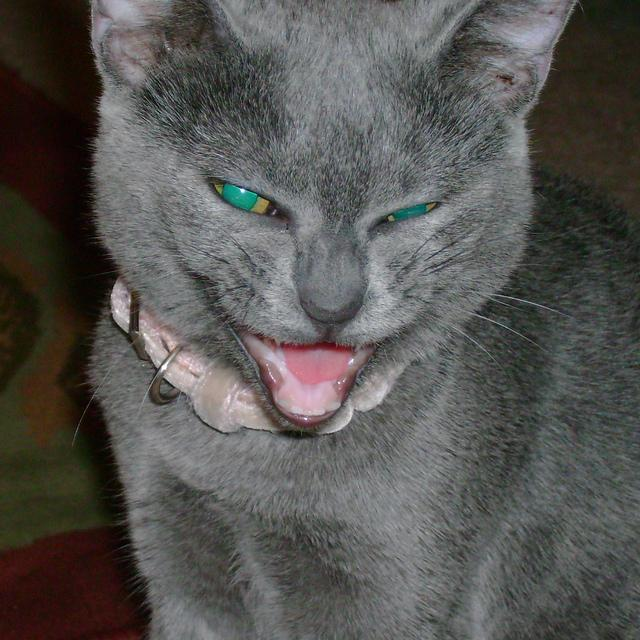animals: (84, 0, 611, 325)
